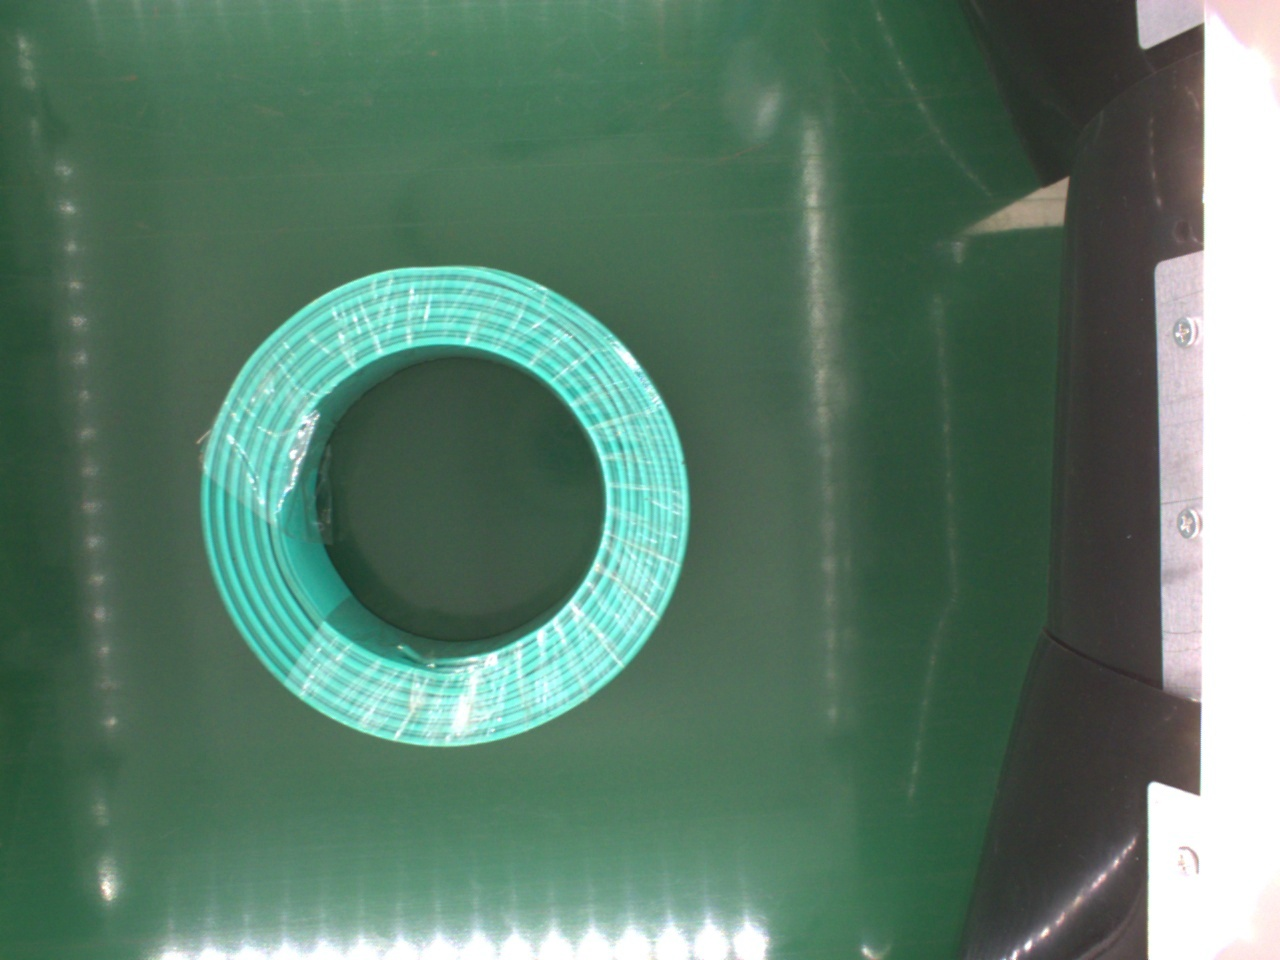green: (193, 265, 694, 750)
